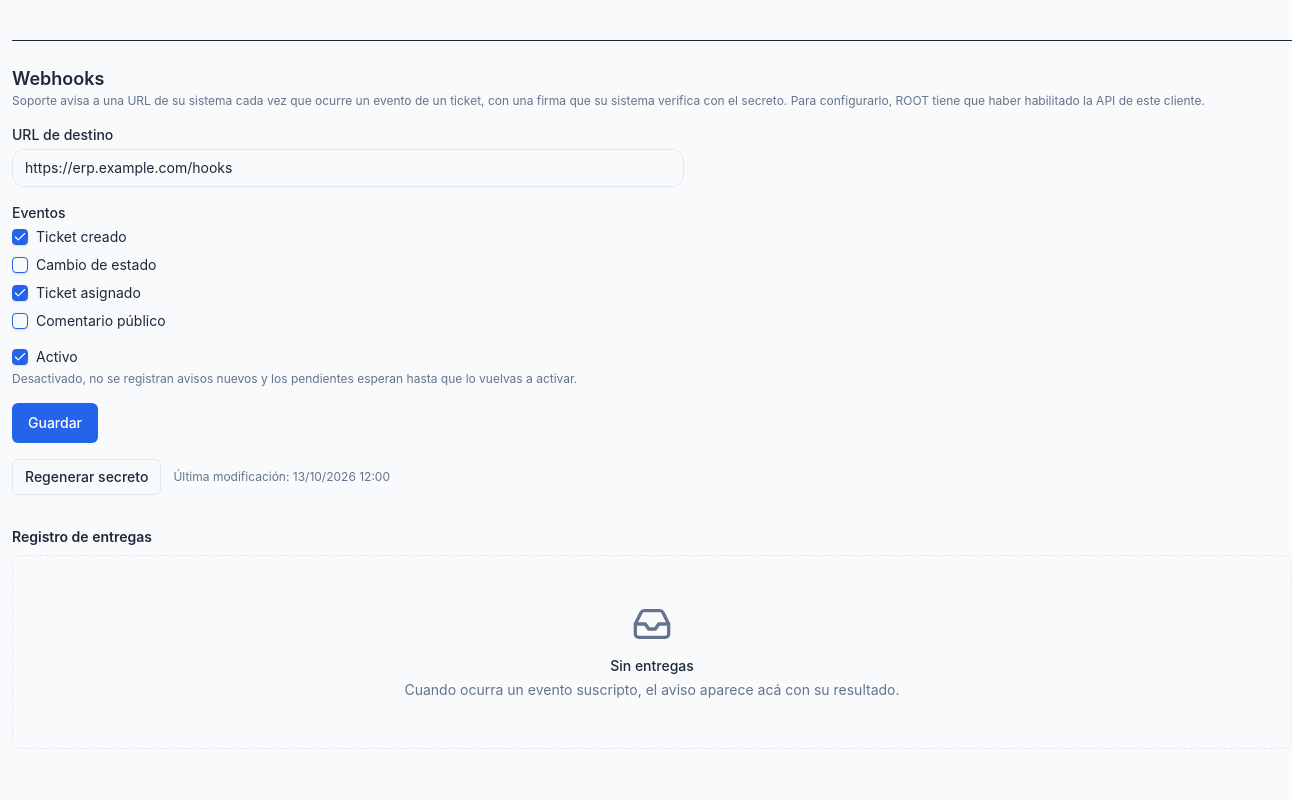
Test case: WebhookSection › un 422 API_NO_HABILITADA se muestra en el formulario
The image size is (1292, 800).
Click the button "Guardar" at (55, 423), box [12, 403, 98, 443]
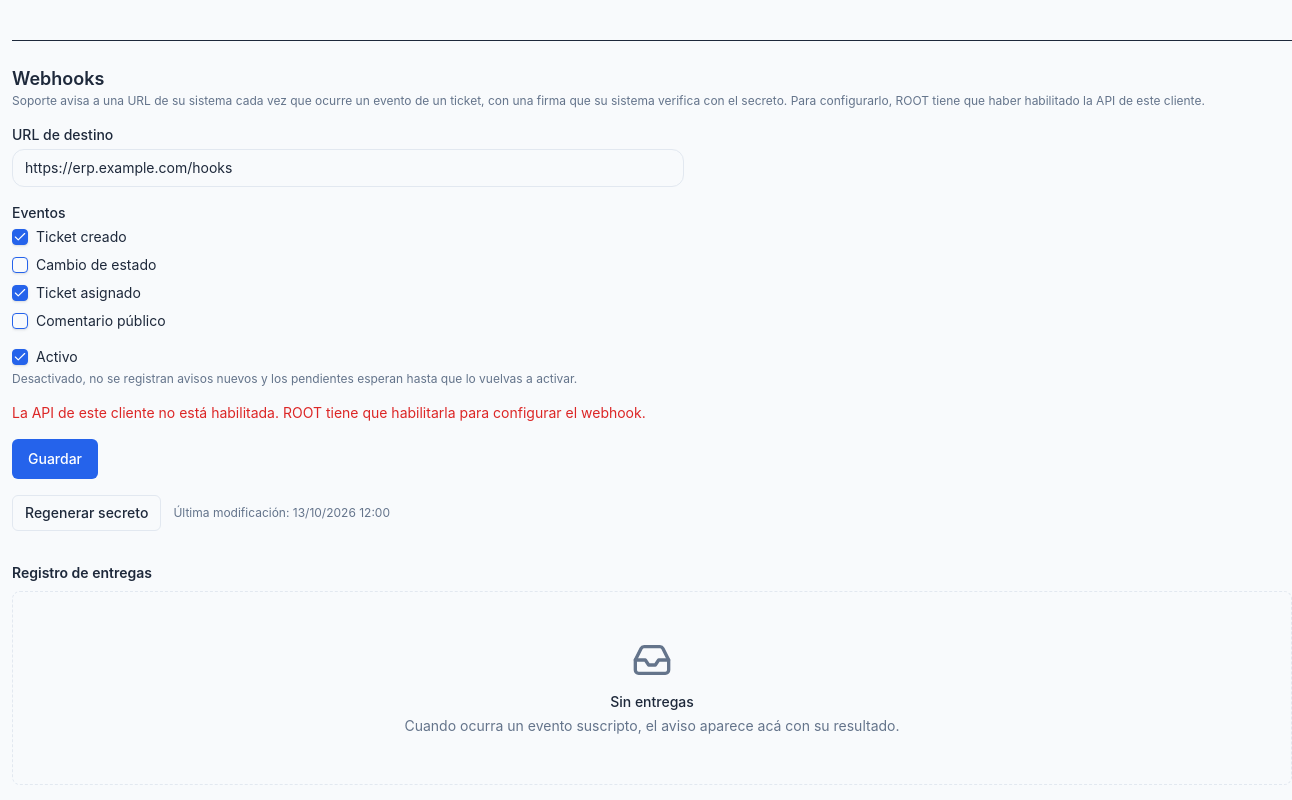
Result: the message shows "ROOT tiene que habilitarla" at [12, 404, 646, 421]
